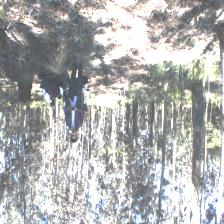trunktrack_idkeyframe: (192, 85, 206, 176), (161, 85, 168, 166), (21, 102, 24, 150)
